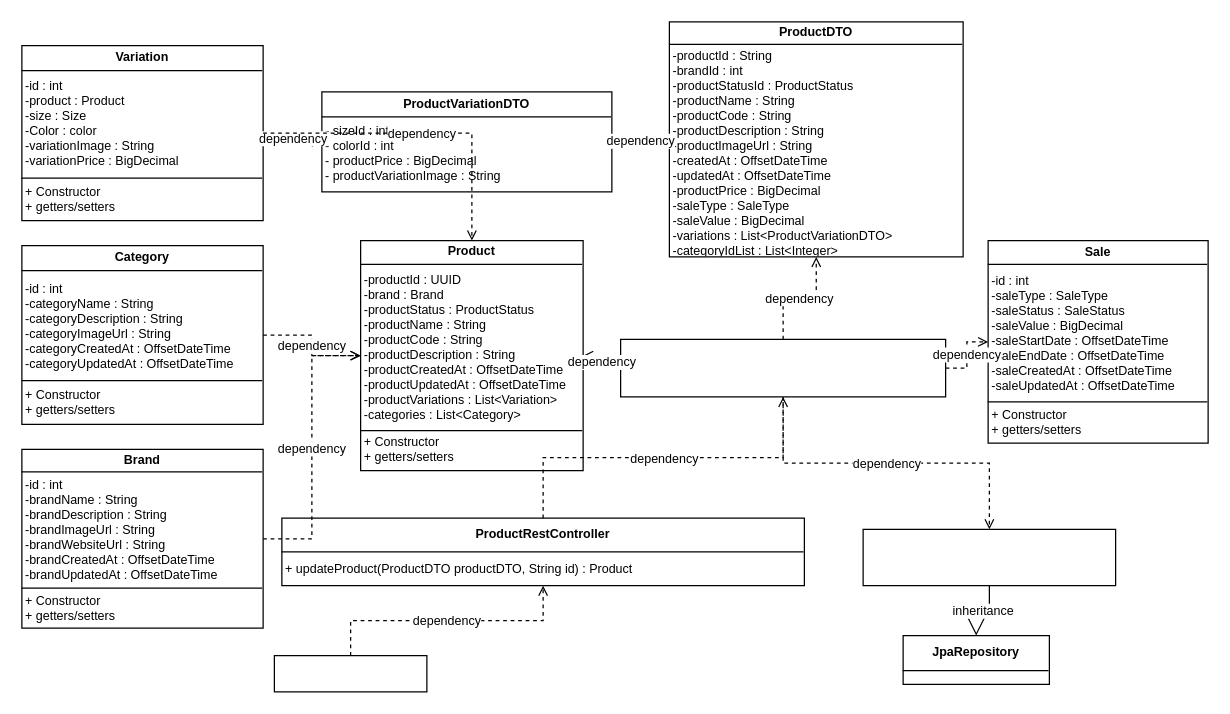
This 1230x714 diagram has some shape labels left out. The centre of each missing label's shape, as x and y in pixels:
"Product Dashboard" goes at [350,673].
"ProductRepository + findById(): product" goes at [989,557].
"ProductService + updateProduct(ProductDTO productDTO, String id) : Product" goes at [782,367].
